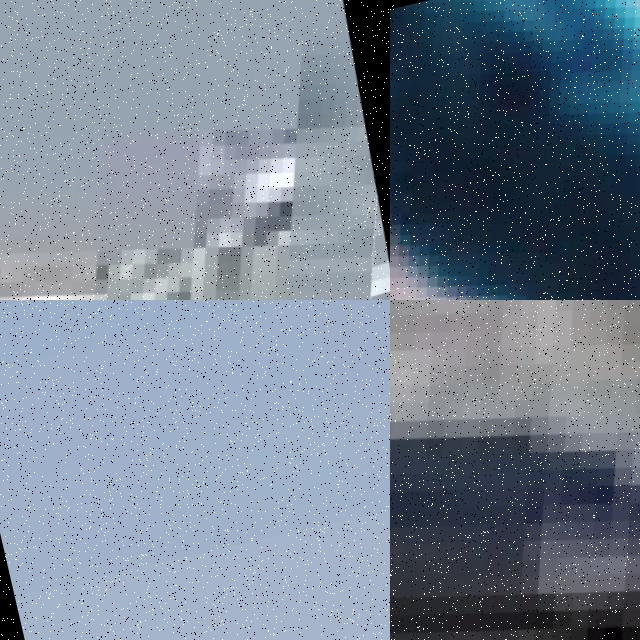drone: (0, 0, 390, 300), (390, 300, 640, 640), (390, 0, 640, 300)
